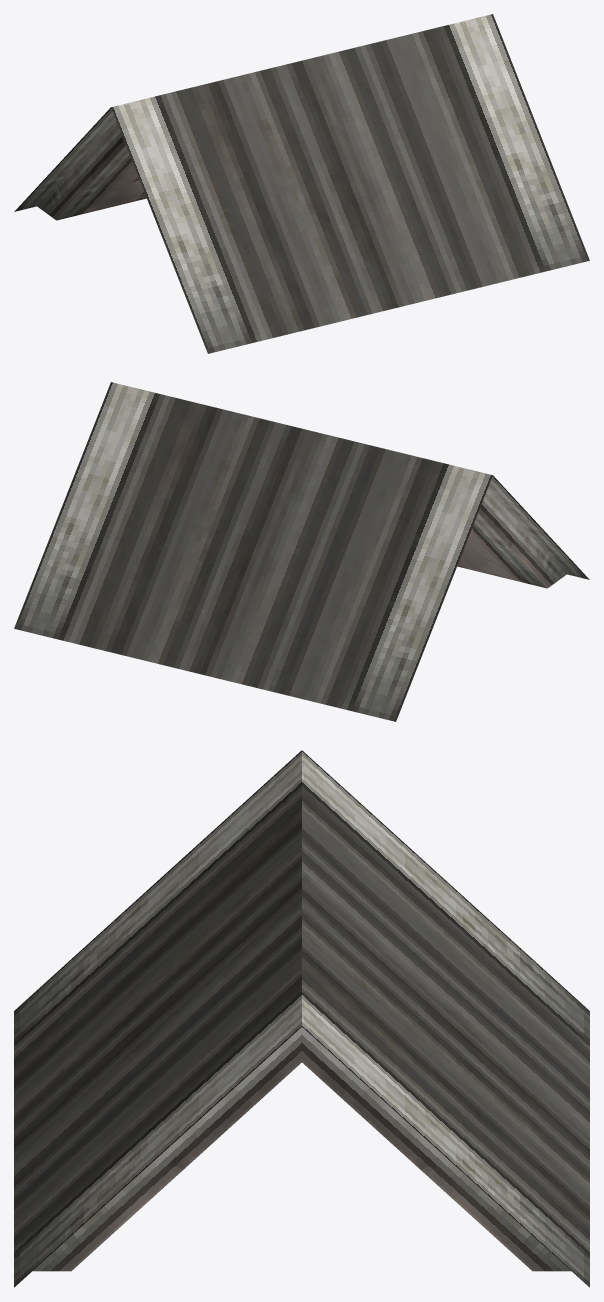
File: roofMetal_typeB.fbx
3 renders of one model, top to bottom at view 1: azimuth 30°, elevation 25°; view 2: azimuth 150°, elevation 25°; view 3: azimuth 270°, elevation 25°, orthographic. The views are drawn at different scales.
Parts seen in each view (by area): view 1: roofMetal_typeB; view 2: roofMetal_typeB; view 3: roofMetal_typeB.
Boxes of the visible parts, bbox=[...] form: roofMetal_typeB: bbox=[14, 14, 589, 353]; roofMetal_typeB: bbox=[14, 382, 589, 721]; roofMetal_typeB: bbox=[14, 750, 589, 1287].
Size of the model in its own units: 11.37 by 5 by 10.
